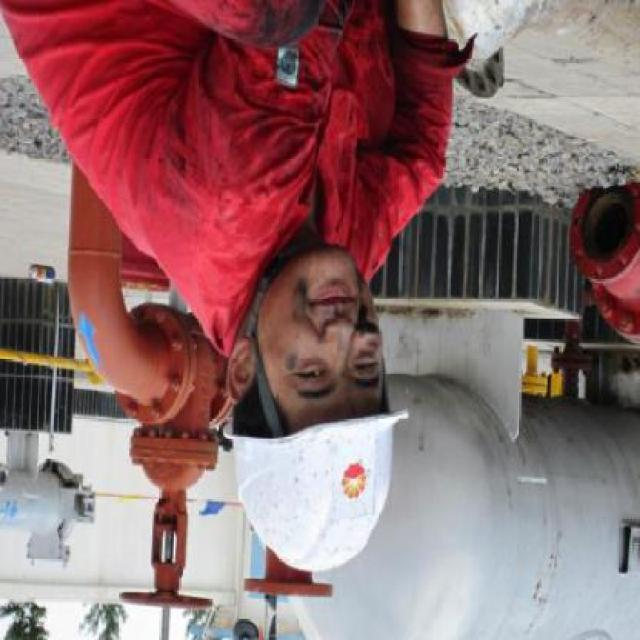safetyhelmet: (221, 251, 395, 576)
